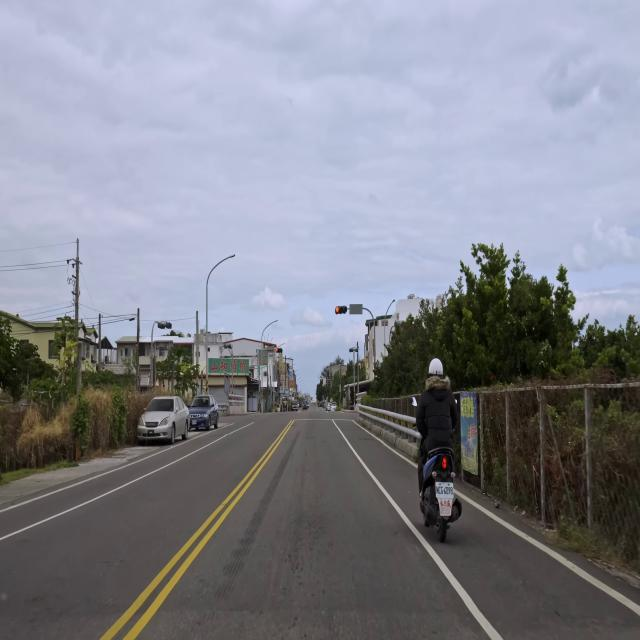red light: (335, 306, 347, 314), (275, 347, 283, 354)
